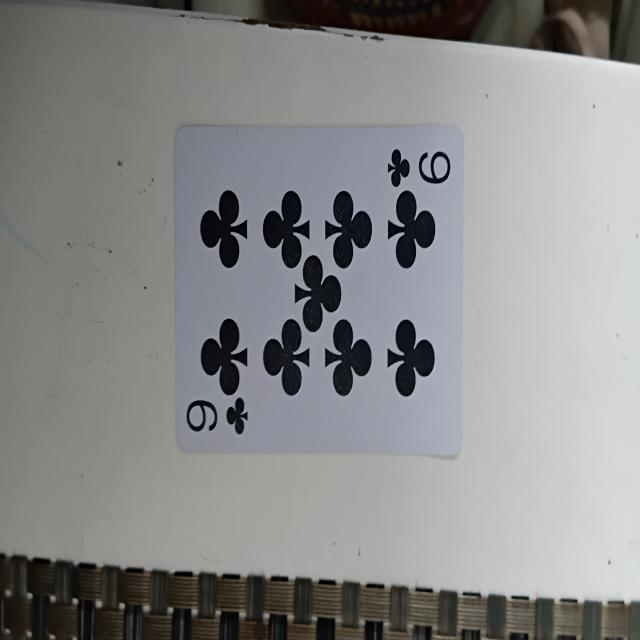9C: (174, 124, 466, 458)
